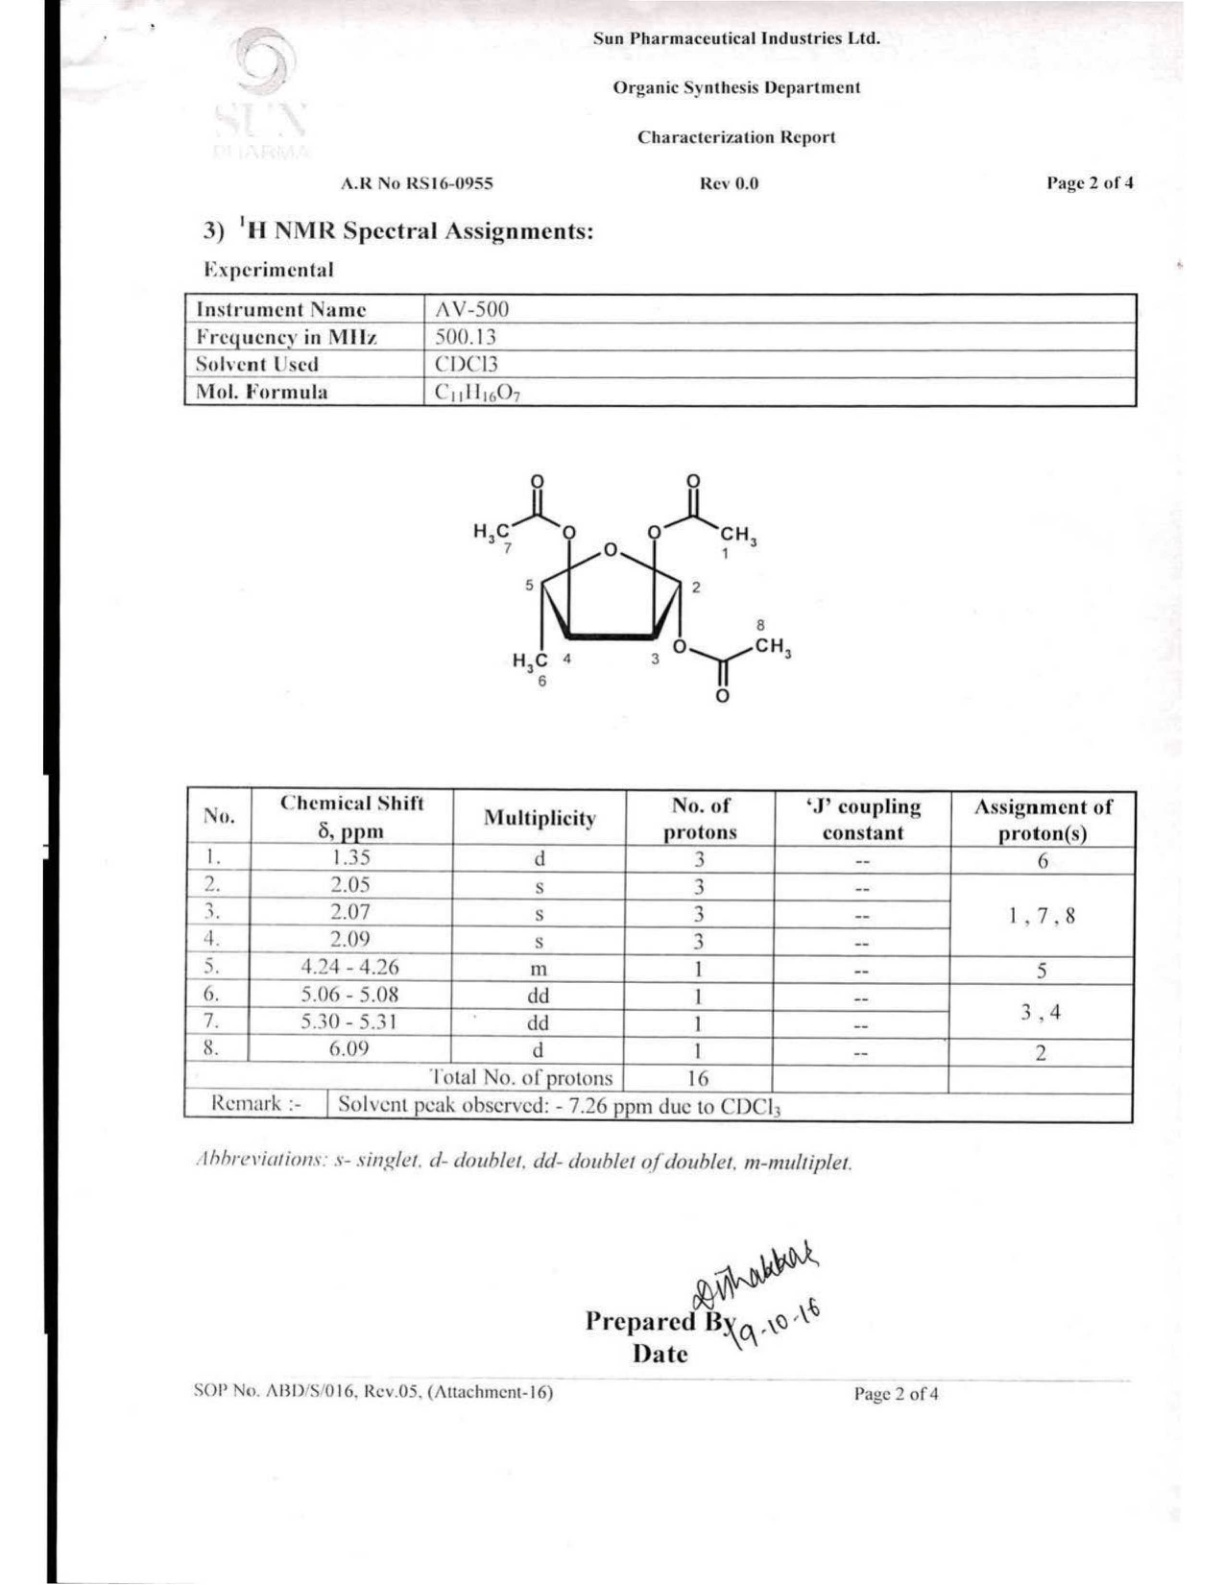full_lined: (183, 292, 1139, 409)
merged_cells: (183, 784, 1137, 1125)
